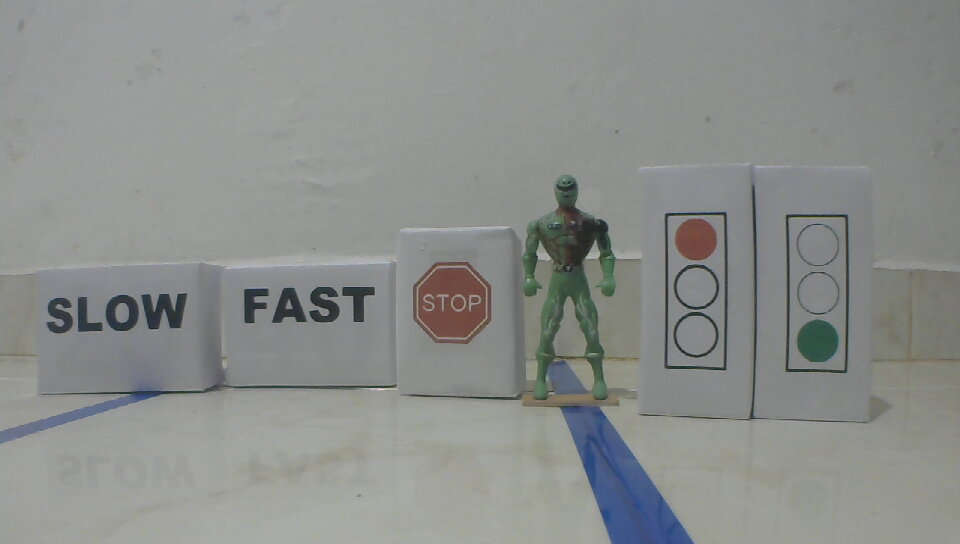Fast: (244, 285, 379, 325)
Green Traffic Light: (783, 211, 852, 378)
Person: (521, 173, 621, 406)
Red Traffic Light: (663, 209, 730, 372)
Slow: (43, 291, 191, 335)
Stop Sign: (410, 259, 494, 346)
